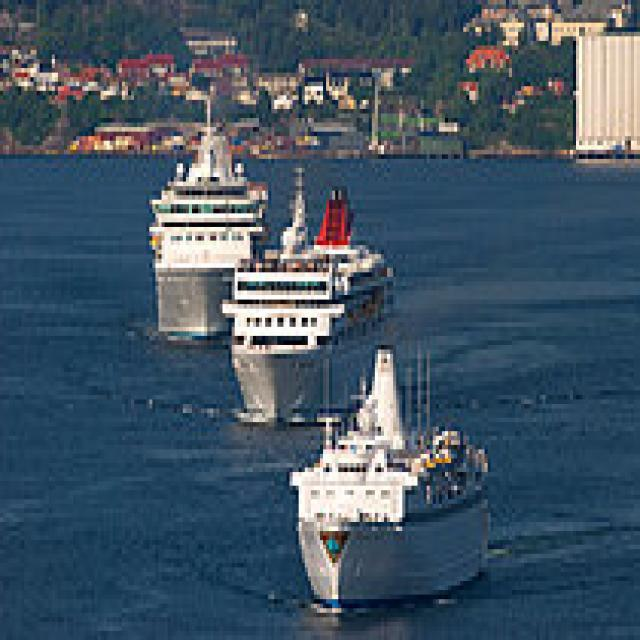Ship: (287, 359, 513, 623), (236, 205, 401, 423), (148, 137, 273, 351)
